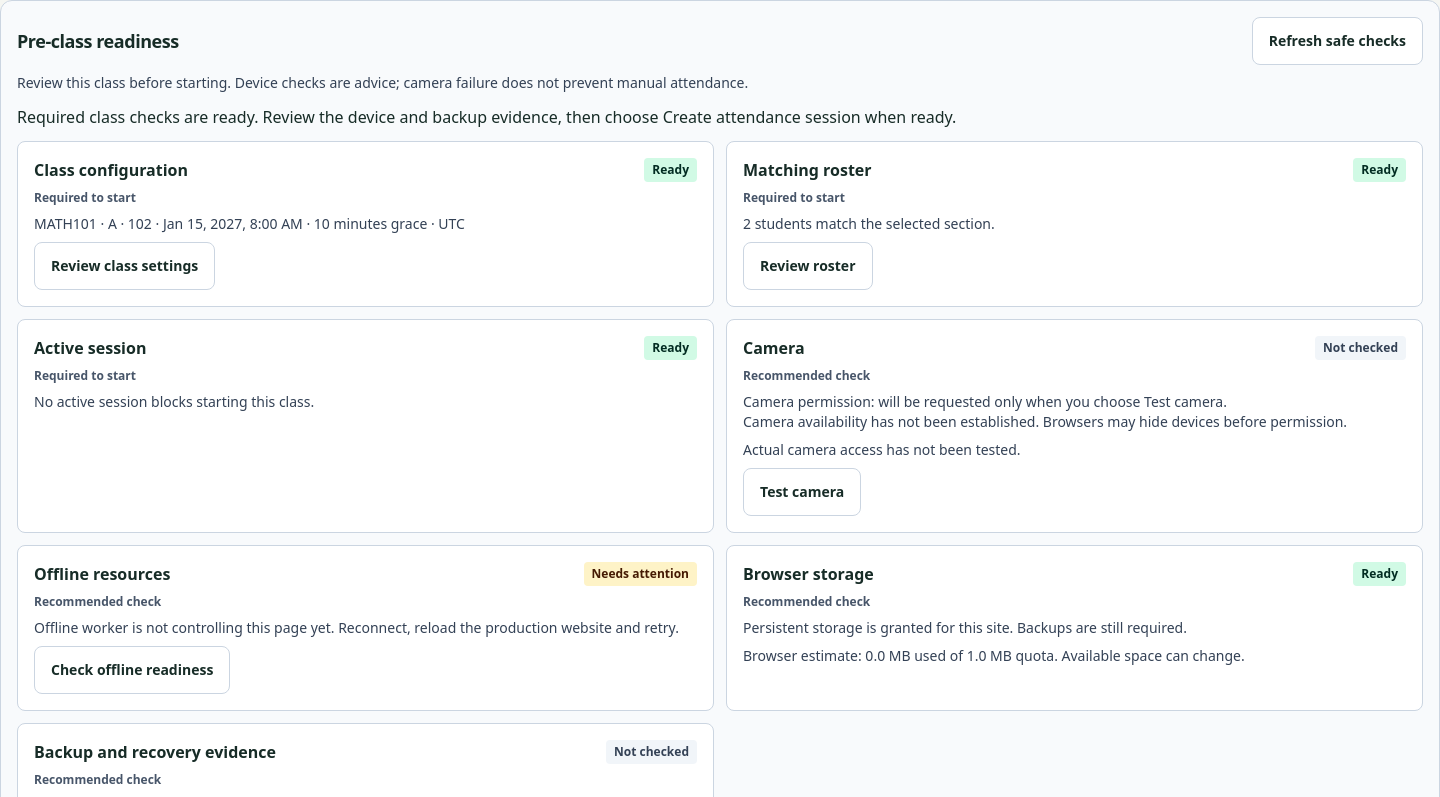
Scenario: pre-class readiness workflow › releases every track on successful explicit camera test without claiming QR decoding
Click the button "Test camera" at (802, 492), box [743, 468, 861, 516]
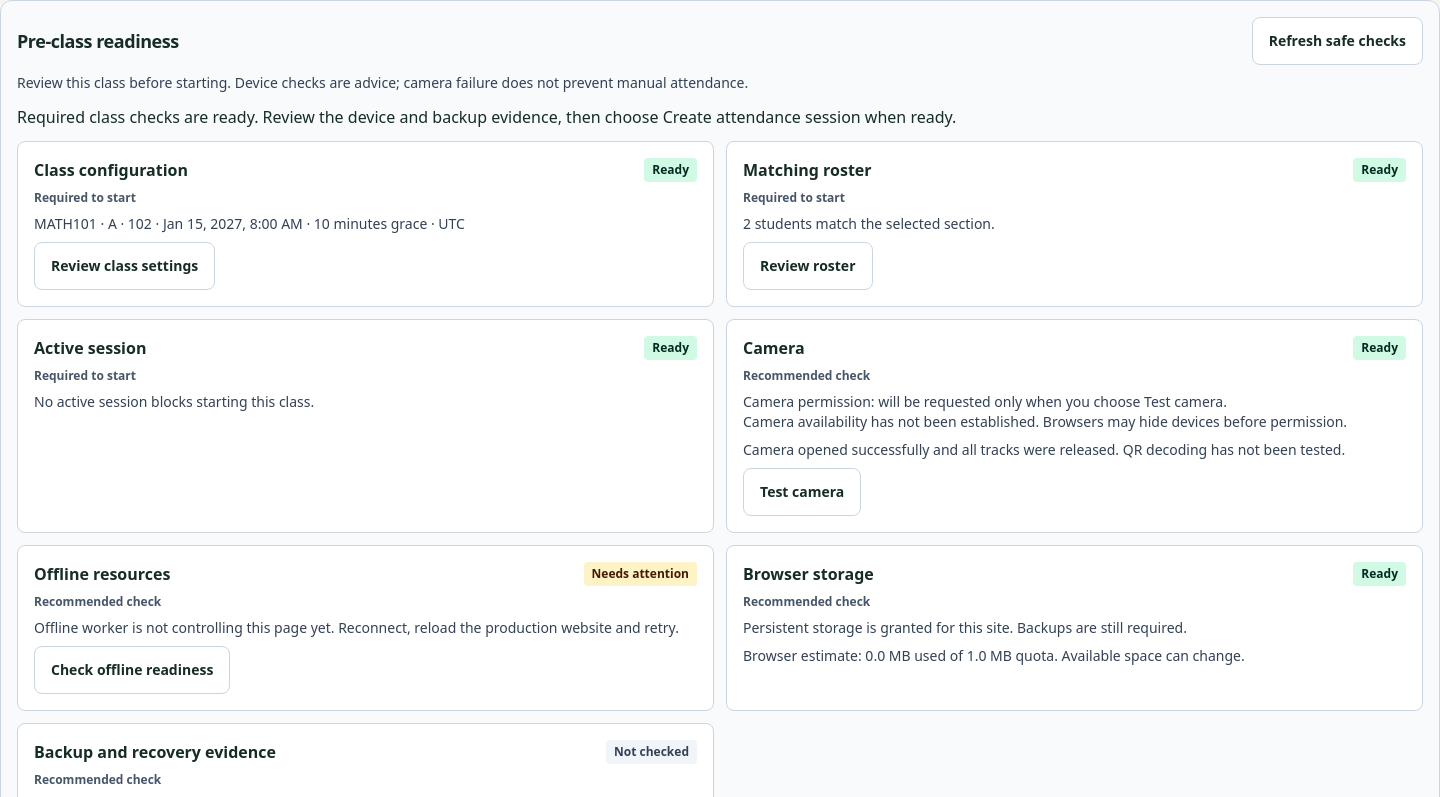
Now the 4th text "Ready" is shown, box [1353, 336, 1406, 360]
Now the text "QR decoding has not been tested" is shown, box [743, 440, 1345, 459]
